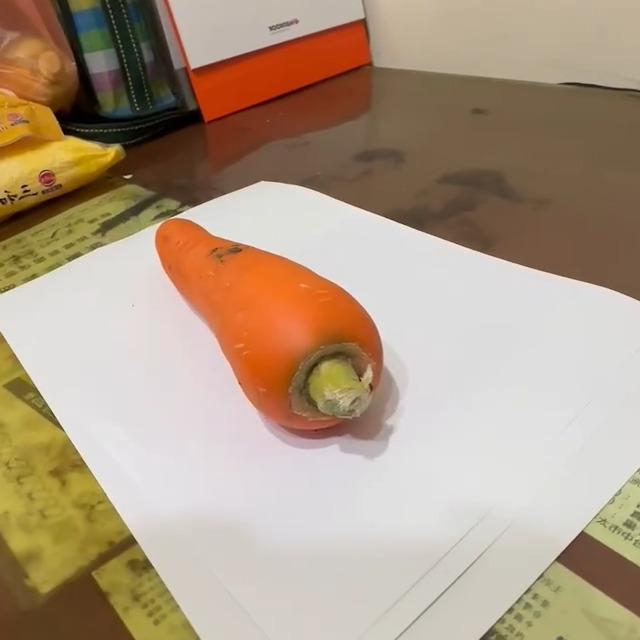carrot: (155, 218, 385, 436)
